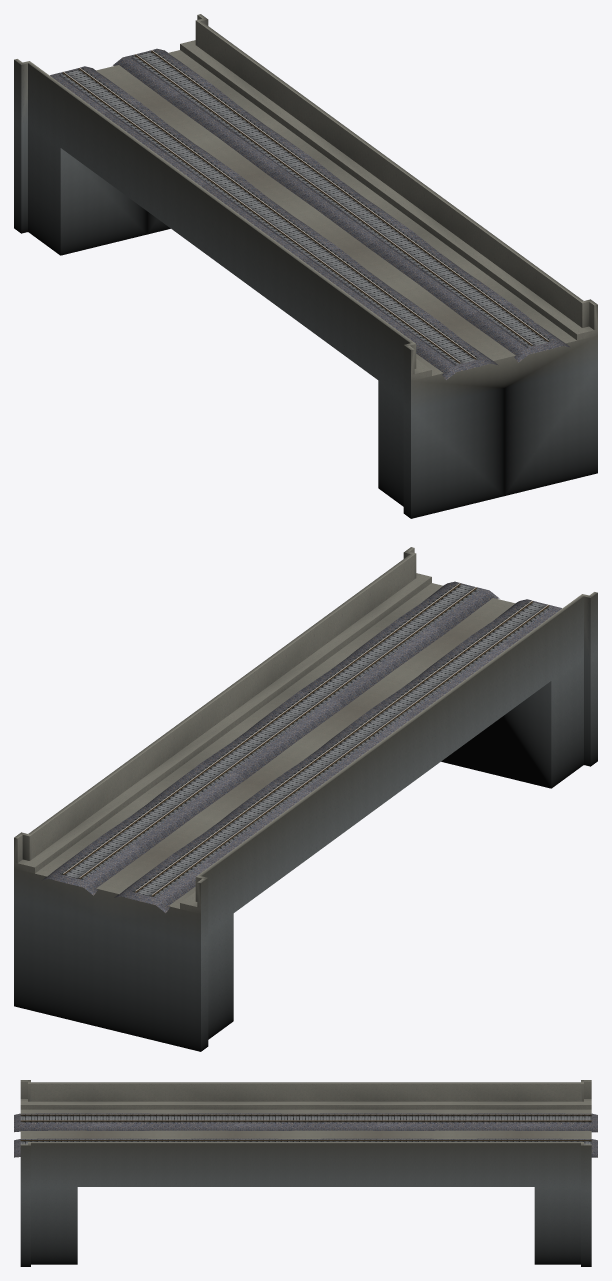
Rendered from 2RAIL_SHINKAN_00.glb.
The picture shows the model from 3 angles, top to bottom: view 1: azimuth 30°, elevation 25°; view 2: azimuth 150°, elevation 25°; view 3: azimuth 270°, elevation 25°; orthographic projection. The views are drawn at different scales.
Parts seen in each view (by area): view 1: obj3; view 2: obj3; view 3: obj3.
Boxes of the visible parts, bbox=[...] form: obj3: bbox=[14, 14, 597, 518]; obj3: bbox=[14, 547, 597, 1051]; obj3: bbox=[14, 1080, 597, 1266].
Size of the model in its own units: 54.36 by 46.88 by 205.
4 materials, 3 textured.
